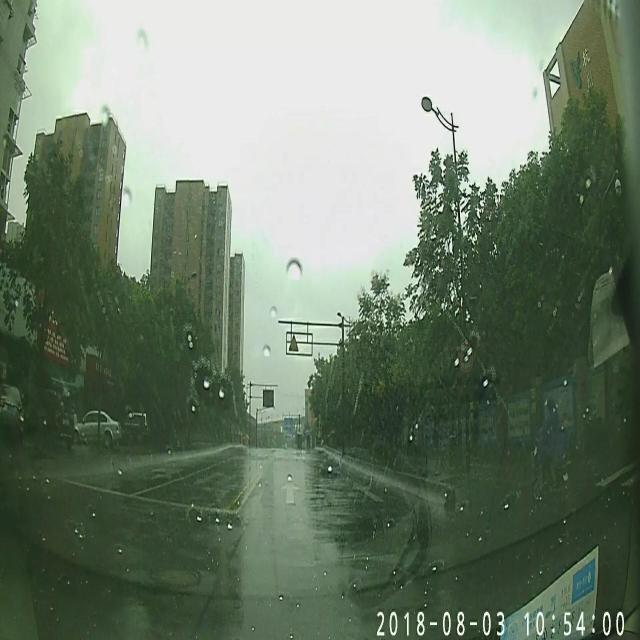car: (70, 410, 120, 448)
